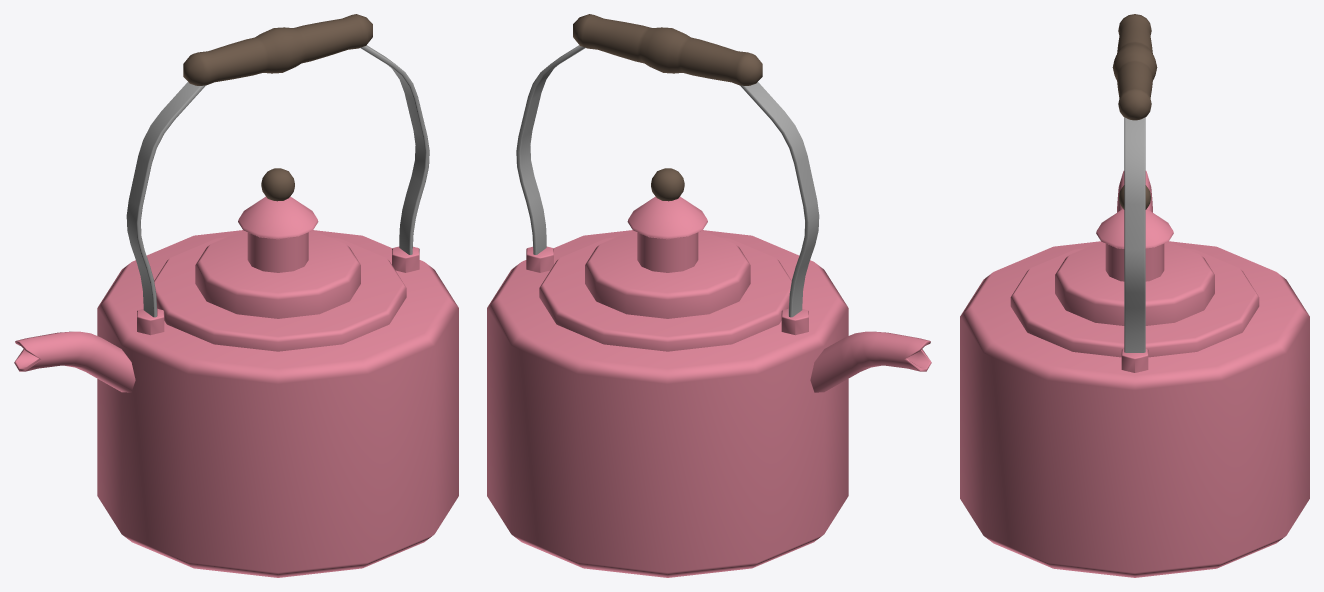
Rendered from Kettle_1.glb.
3 views of the same model, side by side, from view 1: azimuth 30°, elevation 25°; view 2: azimuth 150°, elevation 25°; view 3: azimuth 270°, elevation 25° (orthographic). The views are drawn at different scales.
Visible parts, largest first — view 1: Kettle_1; view 2: Kettle_1; view 3: Kettle_1.
Part boxes in pixels (x1=…): Kettle_1: x1=14, y1=14, x2=458, y2=577; Kettle_1: x1=487, y1=14, x2=931, y2=577; Kettle_1: x1=960, y1=14, x2=1309, y2=577.
Bounding box in the file's own units: 0.3067 × 0.3364 × 0.231.
1 material, 1 textured.
